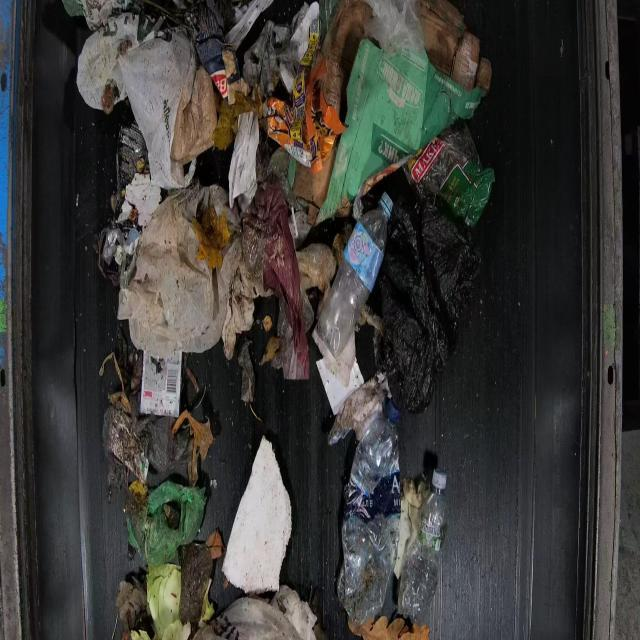other-trash: (64, 0, 496, 638)
paper: (220, 435, 293, 594)
